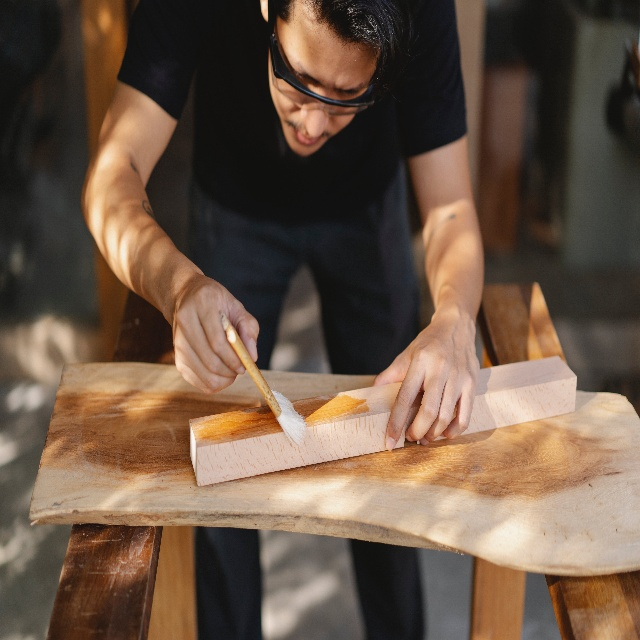Gafas: (267, 17, 382, 114)
Sin_guantes: (372, 307, 481, 452), (170, 276, 260, 394)
